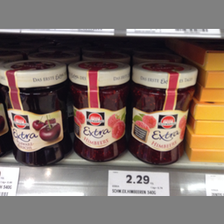jam: (1, 58, 73, 167), (130, 60, 198, 166), (67, 59, 133, 163)
